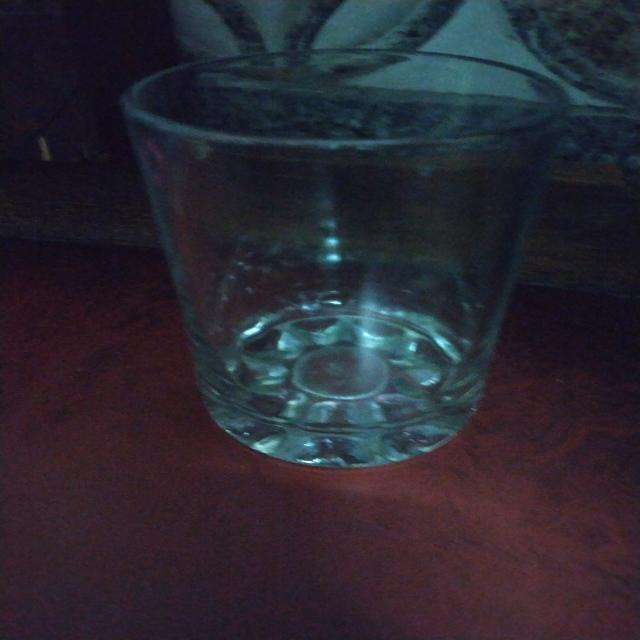Glass: (117, 45, 576, 473)
